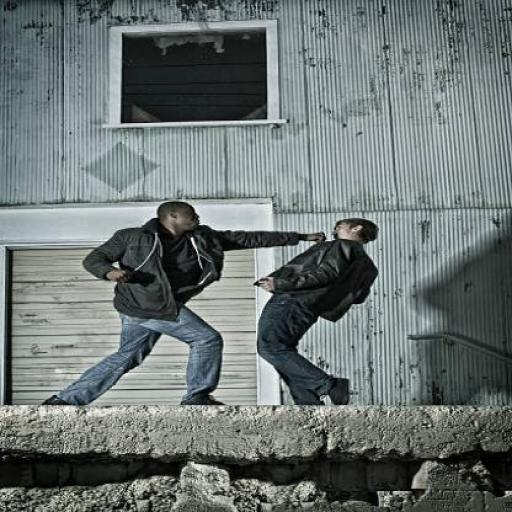Fighting: (43, 197, 391, 411)
